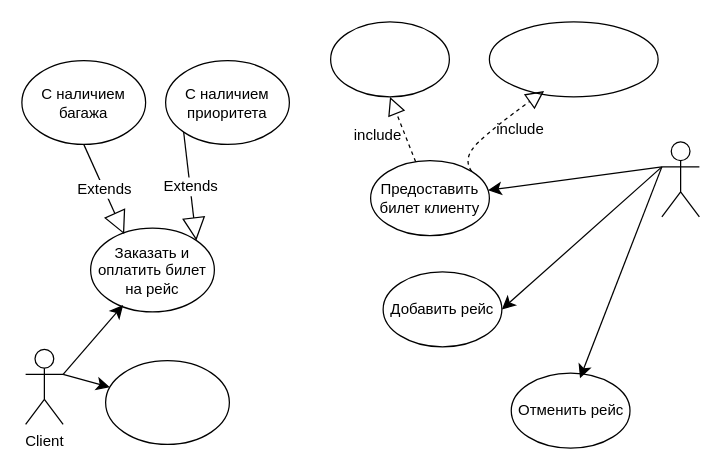
Some shapes in this 723 by 473 pixel diagram are drawn without their labels. Here are the shapes that lost their labels. From the top down, the centre of each, then its label:
At point 389,59: "Проверить наличие билетов".
At point 573,59: "Пересчитать цену билета в зависимости от параметров".
At point 680,179: "Airline".
At point 166,401: "Отменить заказ".
